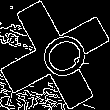O_SW: (22, 24, 88, 86)
